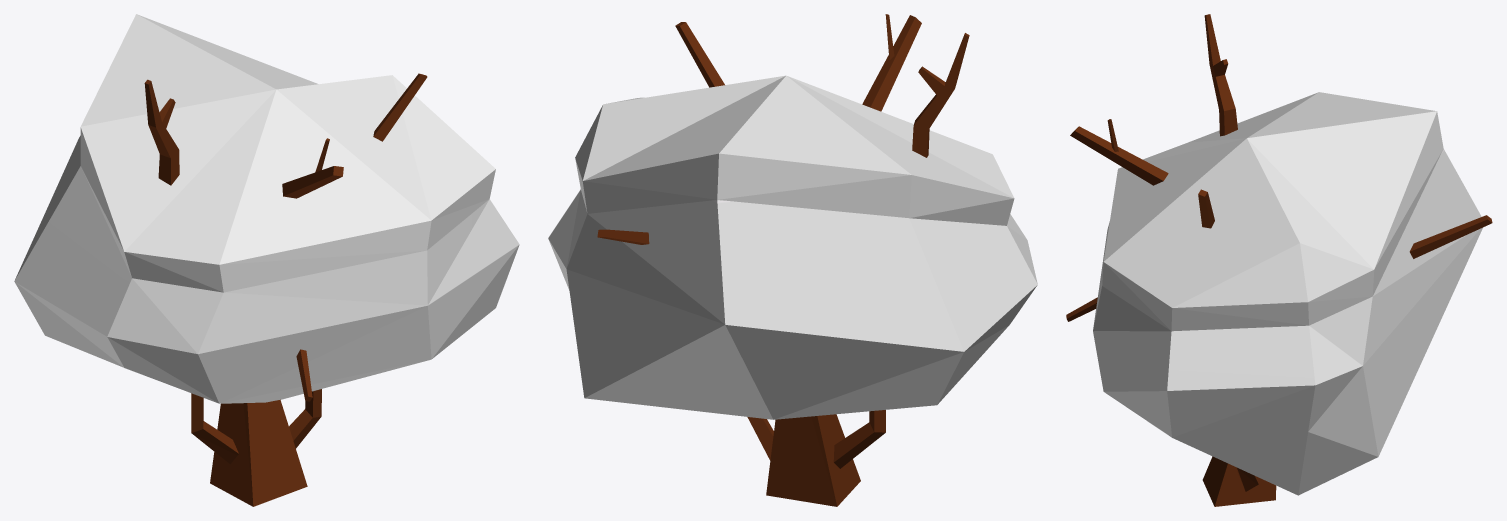
The model's file is Bush_winter_016.fbx.
3 renders of one model, left to right at view 1: azimuth 30°, elevation 25°; view 2: azimuth 150°, elevation 25°; view 3: azimuth 270°, elevation 25°, orthographic. The views are drawn at different scales.
Parts seen in each view (by area): view 1: Bush_winter_016; view 2: Bush_winter_016; view 3: Bush_winter_016.
Boxes of the visible parts, x1,y1,x2,y2 form: Bush_winter_016: (14,14,519,506); Bush_winter_016: (548,14,1037,506); Bush_winter_016: (1066,14,1492,506).
Size of the model in its own units: 226 by 234 by 215.
